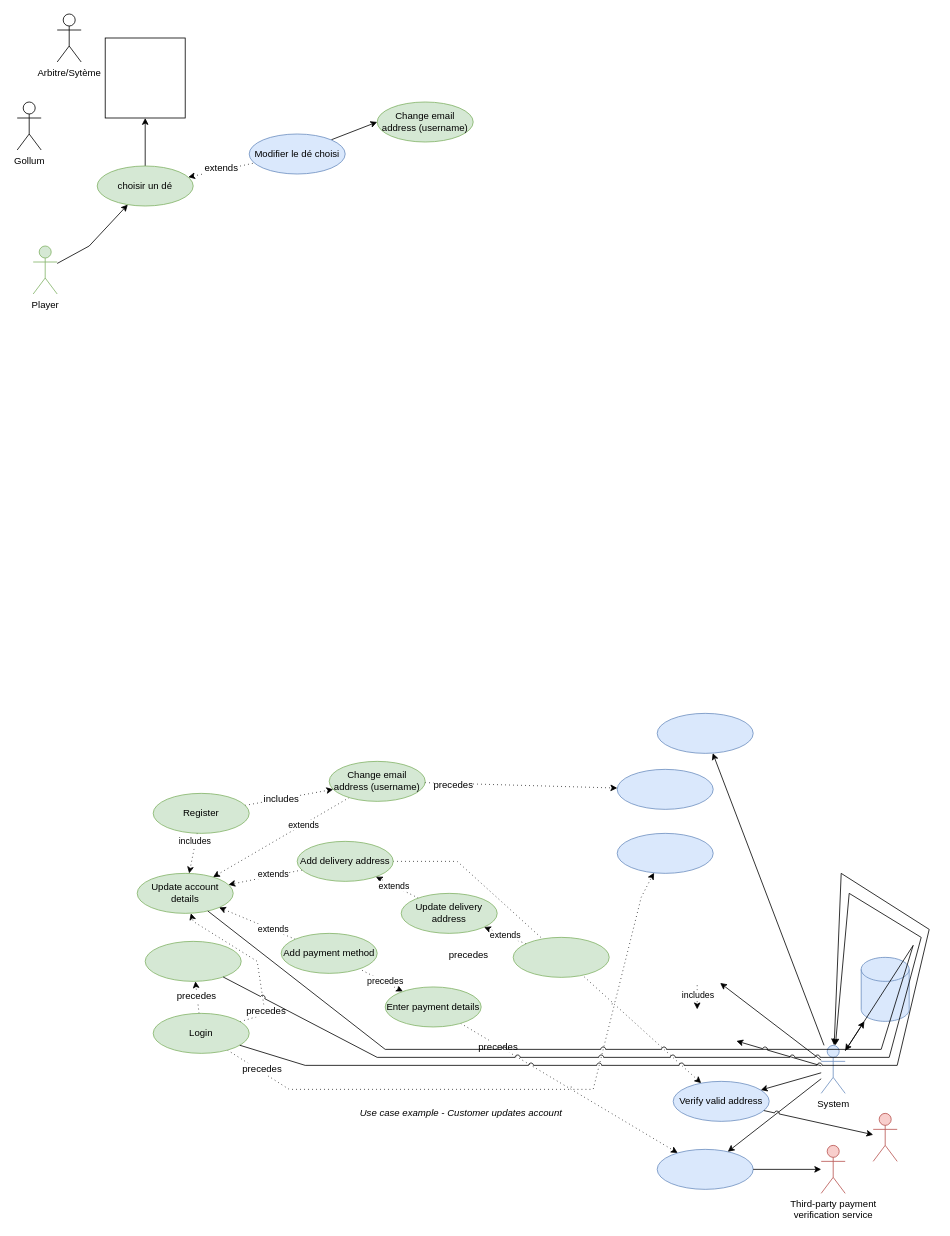
This 950x1236 diagram has some shape labels left out. Here are the shapes that lost their labels. From the top down, the centre of each, then its label:
At pixel 144 77: "Vérification: ressources du joueurs suffisantes pour choisir ce dé".
At pixel 704 733: "Update customer database".
At pixel 664 789: "Verify email is unique".
At pixel 664 853: "Check for existing account".
At pixel 192 961: "View account".
At pixel 560 957: "Delete delivery address".
At pixel 884 989: "Customer database".
At pixel 884 1137: "MAP API".
At pixel 704 1169: "Verify credit card details".
